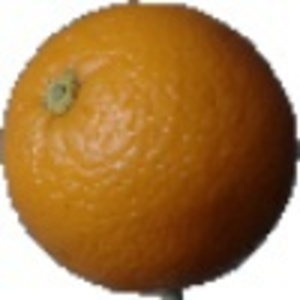laranja: (3, 2, 296, 296)
